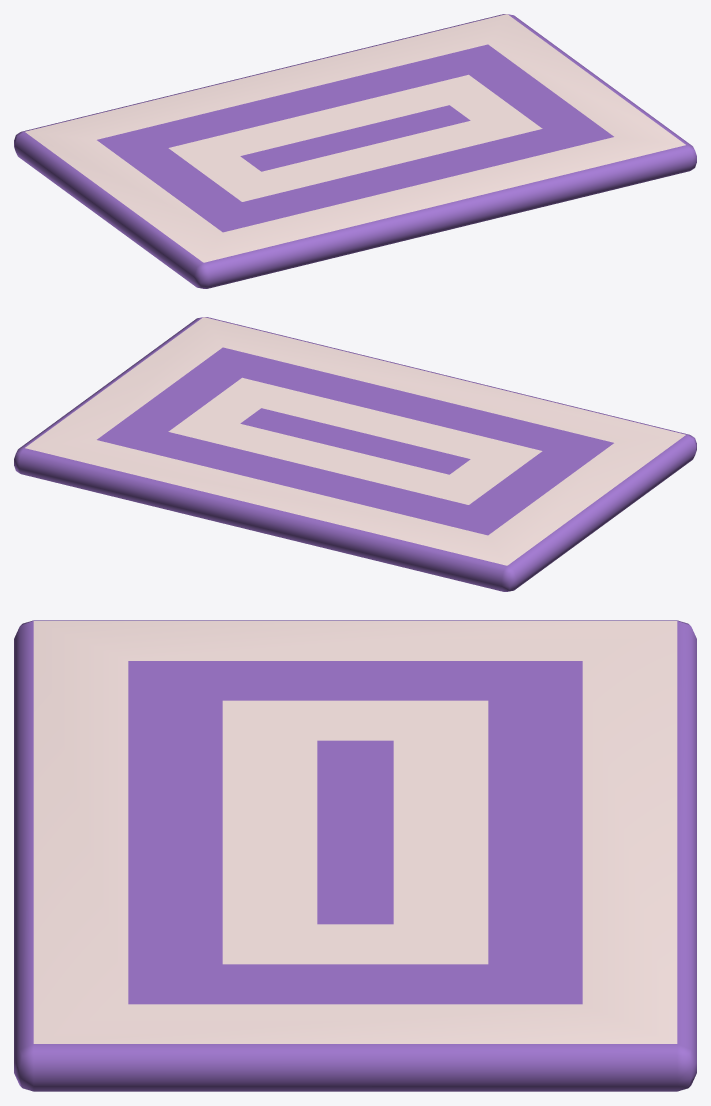
The model's file is City_15_Carpet_1.glb.
3 renders of one model, top to bottom at view 1: azimuth 30°, elevation 25°; view 2: azimuth 150°, elevation 25°; view 3: azimuth 270°, elevation 25°, orthographic. The views are drawn at different scales.
Visible parts, largest first — view 1: City_15_Carpet_1; view 2: City_15_Carpet_1; view 3: City_15_Carpet_1.
Boxes of the visible parts, bbox=[...] form: City_15_Carpet_1: bbox=[14, 14, 696, 288]; City_15_Carpet_1: bbox=[14, 317, 696, 591]; City_15_Carpet_1: bbox=[14, 620, 696, 1091].
Size of the model in its own units: 1.32 by 0.0657 by 0.8676.
1 material, 1 textured.
